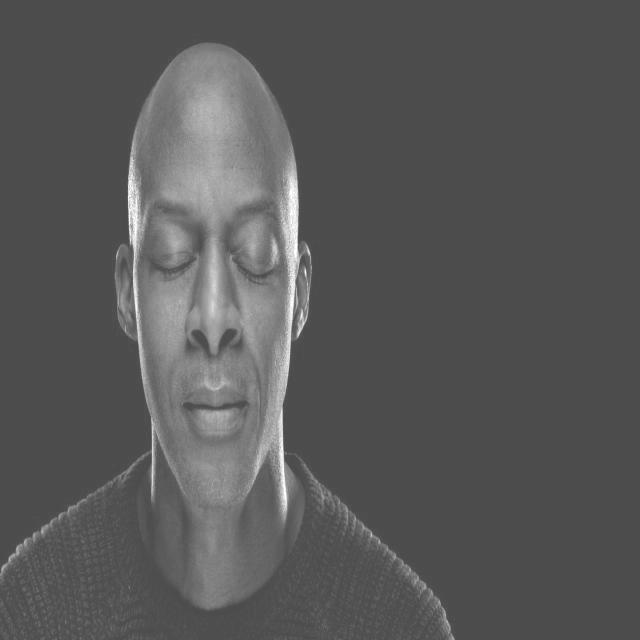real: (111, 125, 314, 508), (136, 180, 291, 294)
